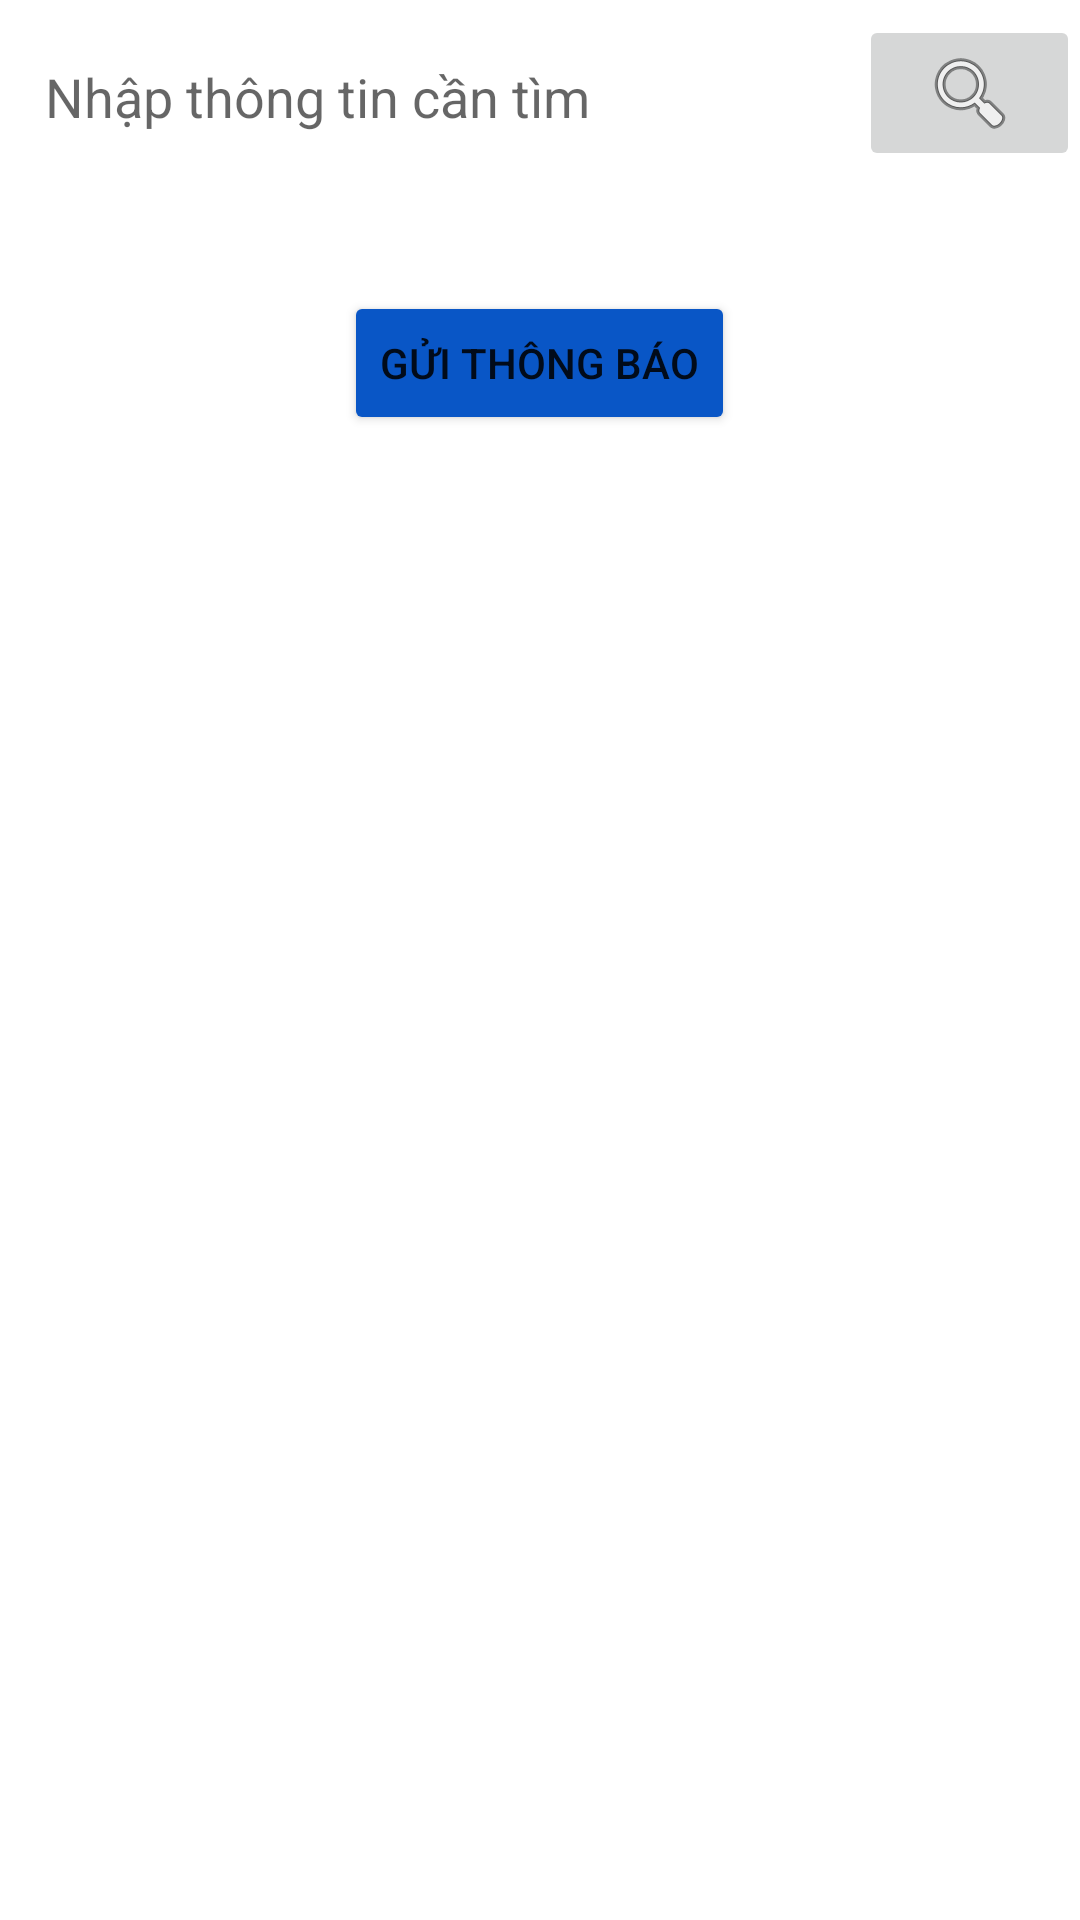

Where icons sit on this 1080x1920 app screen, as Rect(x1, y1, x2, y2):
search: Rect(871, 33, 1068, 153)
